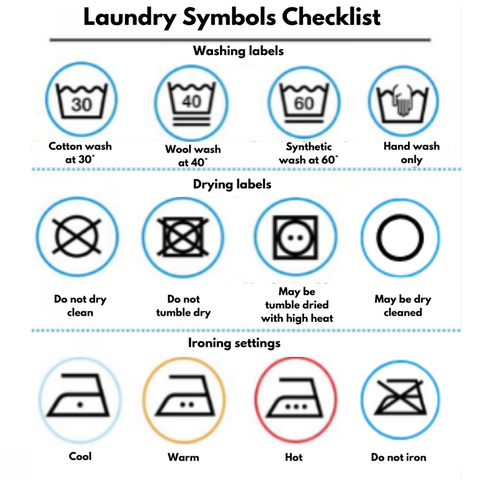ER_dry_clean: (373, 210, 427, 266)
ER_hand_wash: (373, 84, 432, 128)
ER_iron_high_temp: (264, 371, 327, 423)
ER_iron_low_temp: (44, 369, 114, 420)
ER_iron_medium_temp: (150, 371, 217, 420)
ER_no_dry_clean: (49, 212, 105, 260)
ER_no_iron: (370, 371, 432, 419)
ER_no_tumble_dry: (150, 211, 211, 260)
ER_tumble_dry_normal_heat: (269, 211, 324, 263)
ER_wash_30: (52, 81, 112, 122)
ER_wash_40_mild: (164, 78, 219, 129)
ER_wash_60: (276, 80, 331, 126)
